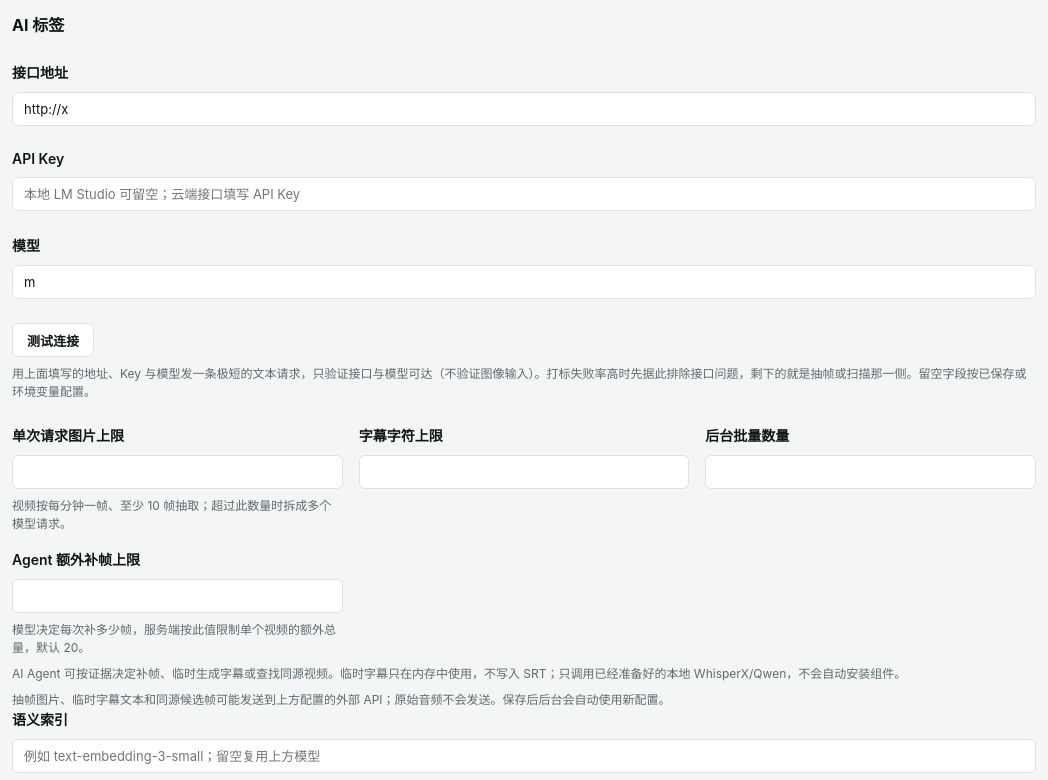
Test: AITagSection connection test › renders a failed probe in the error style, including a thrown binding error
What coordinates should you click on to do the following:
click the button with test id "ai-connection-test" showing "测试连接"
I would click on:
 (53, 340)
Its box is [12,323,94,357].
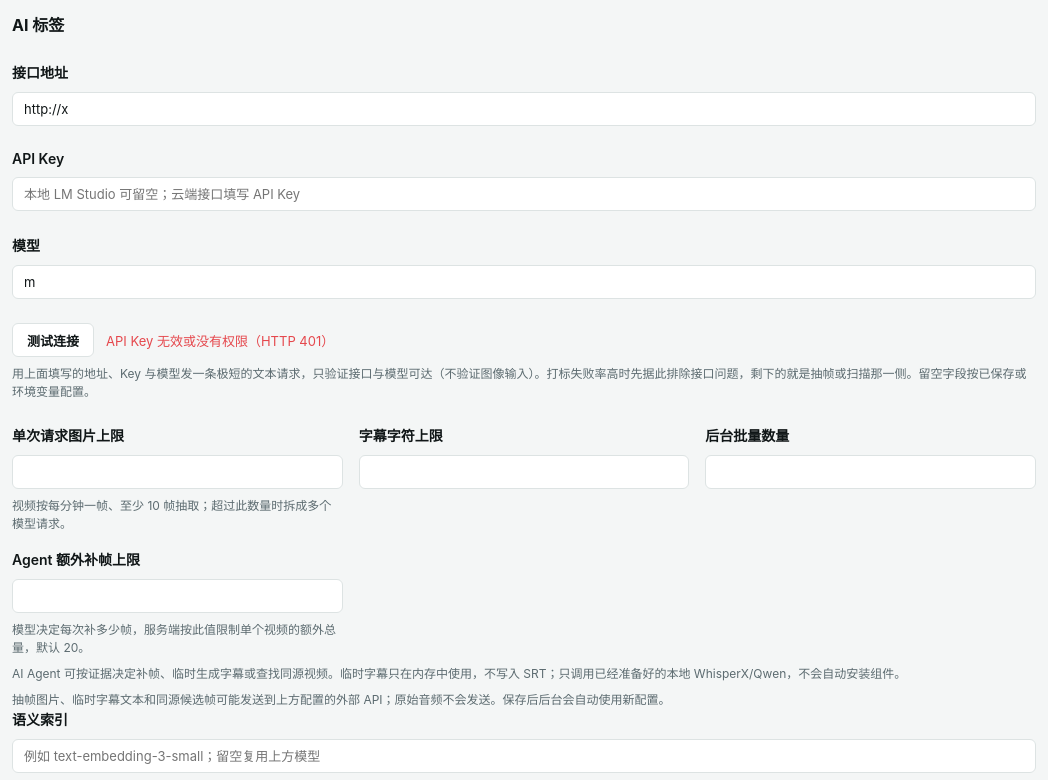
Result: the text "HTTP 401" is shown at [106,332,334,348]
What coordinates should you click on to do the following:
click the button with test id "ai-connection-test" showing "测试连接"
I would click on:
 (53, 340)
Its box is [12,323,94,357].
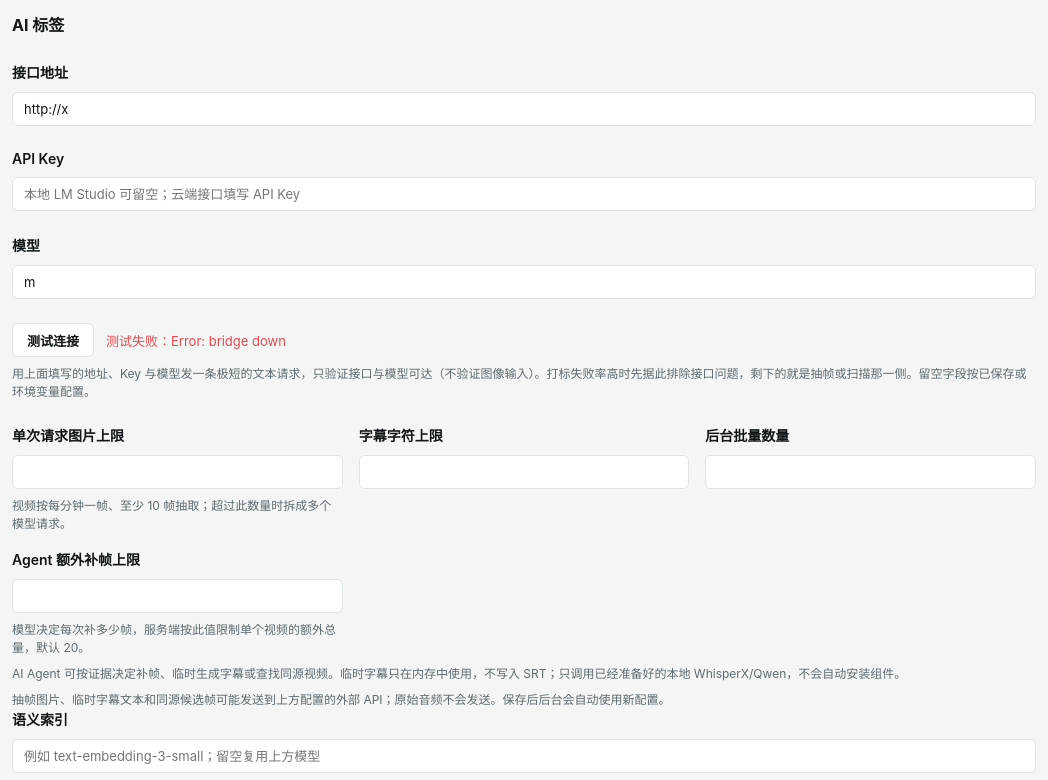
Result: the message with test id "ai-connection-result" shows "测试失败" at [106,332,286,348]
